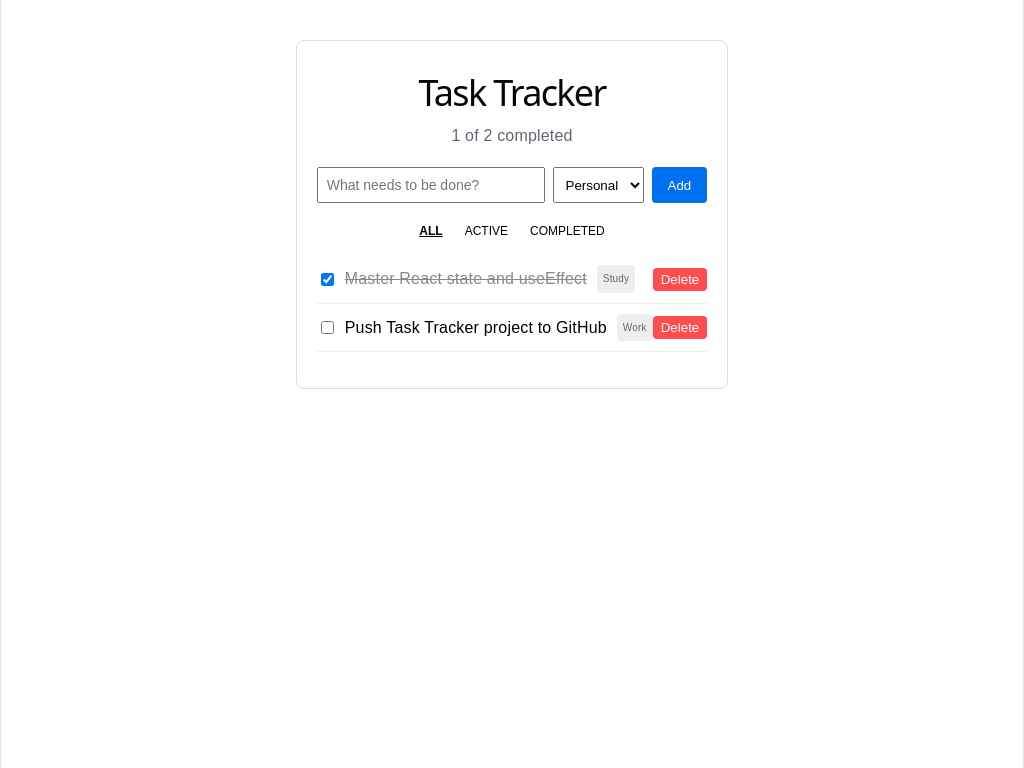
Test: Task Tracker App › deletes a task when the delete button is clicked
This screenshot has width=1024, height=768.
// Delete the first task
Click the button "Delete" in the row of "Master React state and useEffect": click(680, 279) left=653, top=268, right=707, bottom=290
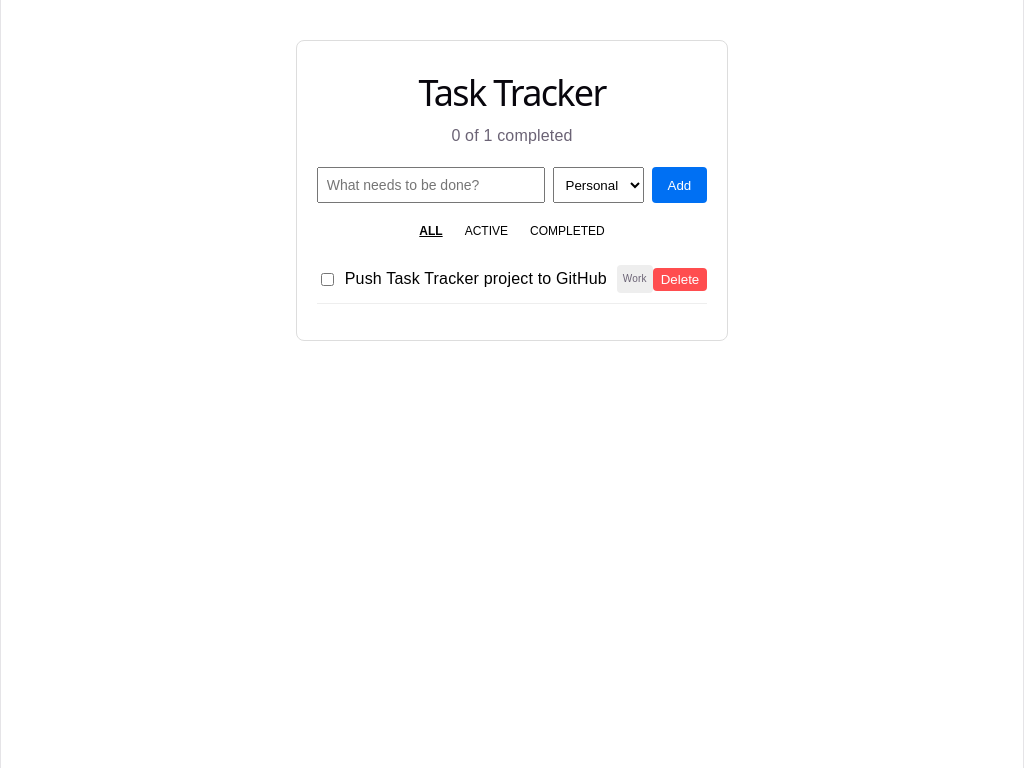
Result: the text "Master React state and useEffect" is gone
Result: the text "0 of 1 completed" is shown at left=451, top=127, right=573, bottom=144
